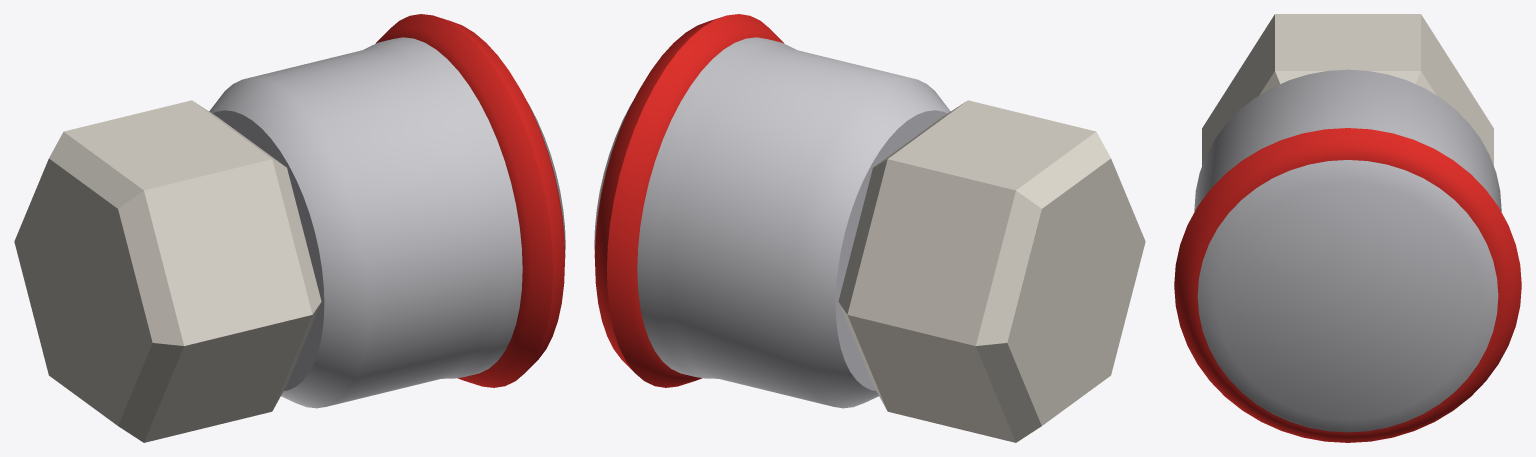
Rendered from fitting_adp_28x34_F_r.glb.
3 views of the same model, side by side, from view 1: azimuth 30°, elevation 25°; view 2: azimuth 150°, elevation 25°; view 3: azimuth 270°, elevation 25° (orthographic). The views are drawn at different scales.
Visible parts, largest first — view 1: шестигранник переходника, раструб, кольцо пресс; view 2: шестигранник переходника, раструб, кольцо пресс; view 3: раструб, кольцо пресс, шестигранник переходника.
Part boxes in pixels (bbox=[...]): шестигранник переходника: bbox=[14, 100, 321, 442]; раструб: bbox=[209, 37, 565, 408]; кольцо пресс: bbox=[375, 14, 565, 387]; шестигранник переходника: bbox=[838, 100, 1145, 442]; раструб: bbox=[594, 37, 950, 408]; кольцо пресс: bbox=[594, 14, 784, 387]; раструб: bbox=[1194, 69, 1501, 432]; кольцо пресс: bbox=[1174, 128, 1521, 442]; шестигранник переходника: bbox=[1202, 14, 1493, 165].
Size of the model in its own units: 0.051 by 0.0412 by 0.0412.
